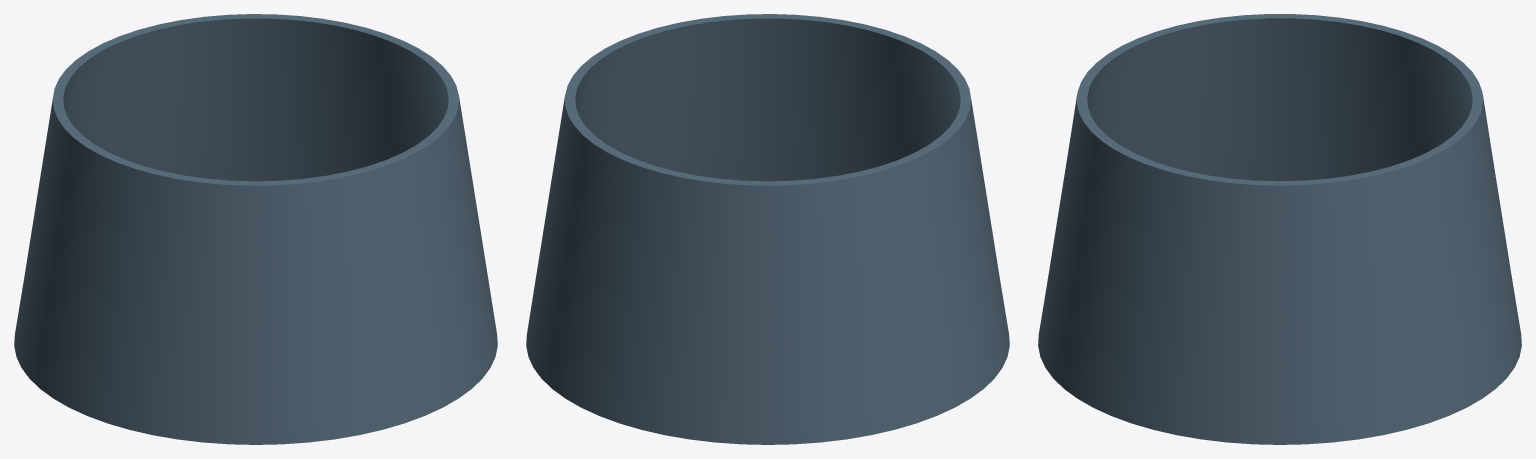
The model's file is perehod-325x8-273x7-L180.glb.
The picture shows the model from 3 angles, left to right: view 1: azimuth 30°, elevation 25°; view 2: azimuth 150°, elevation 25°; view 3: azimuth 270°, elevation 25°; orthographic projection.
Parts seen in each view (by area): view 1: Open CASCADE STEP translator 7.9 56; view 2: Open CASCADE STEP translator 7.9 56; view 3: Open CASCADE STEP translator 7.9 56.
Boxes of the visible parts, box(x1,y1,x2,y2) form: Open CASCADE STEP translator 7.9 56: box(14, 14, 497, 444); Open CASCADE STEP translator 7.9 56: box(526, 14, 1009, 444); Open CASCADE STEP translator 7.9 56: box(1038, 14, 1521, 444).
Bounding box in the file's own units: 325 × 180 × 325.
